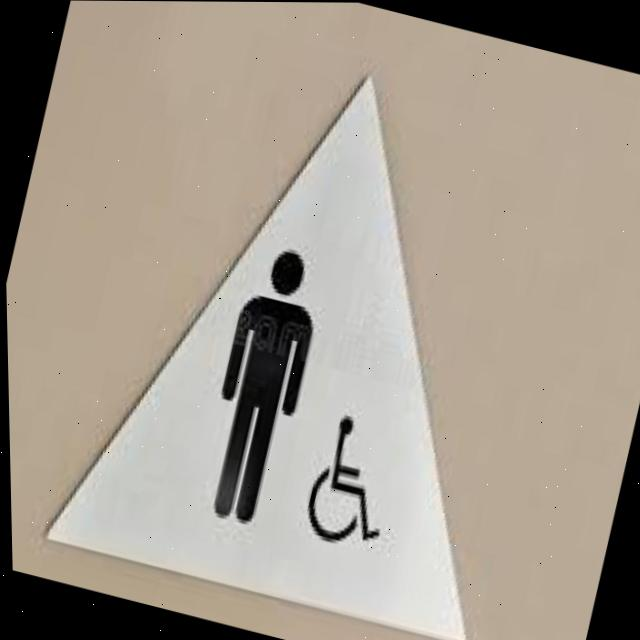symbol_of_access: (289, 399, 412, 570)
